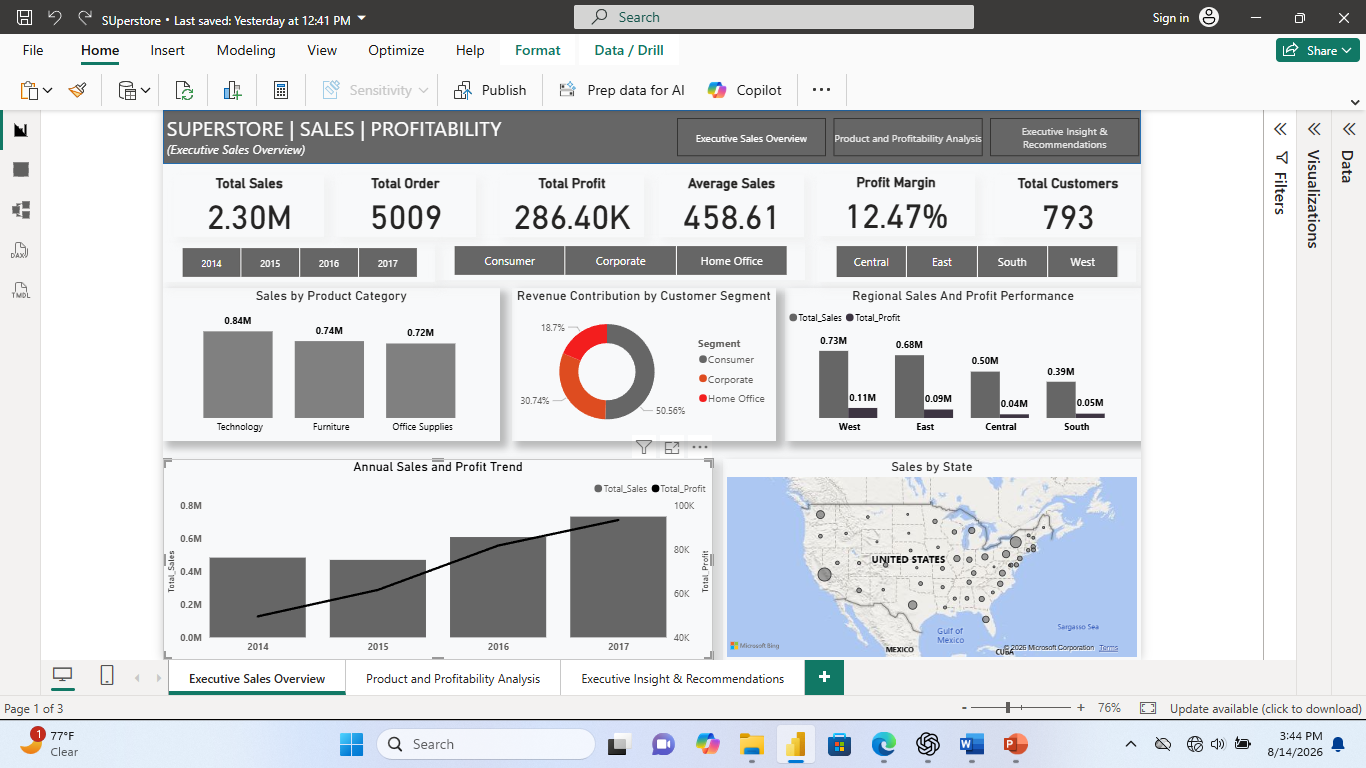

The page's visual inventory and layout, read from the dashboard file:
{"tool":"powerbi","page":{"name":"Executive Sales Overview","canvas":[1280,720],"ordinal":0},"visuals":[{"type":"card","title":"Total Sales","fields":{"Values":["Sample - Superstore.Total_Sales"]},"box":[14.4,85,197.3,80.6],"z":0},{"type":"card","title":"Total Order","fields":{"Values":["Sample - Superstore.Total_Order"]},"box":[224.6,85,184.3,80.6],"z":1000},{"type":"card","title":"Total Profit","fields":{"Values":["Sample - Superstore.Total_Profit"]},"box":[440.6,85,188.6,80.6],"z":2000},{"type":"card","title":"Profit Margin","fields":{"Values":["Sample - Superstore.Profit_Marginn"]},"box":[855.7,84.3,207.1,81.4],"z":3000},{"type":"card","title":"Average Sales","fields":{"Values":["Sample - Superstore.Average_sales"]},"box":[649.4,85,190.1,80.6],"z":4000},{"type":"card","title":"Total Customers","fields":{"Values":["Count(Sample - Superstore.Customer ID)"]},"box":[1088.6,85,191.5,80.6],"z":5000},{"type":"slicer","fields":{"Values":["Calendar.Year"]},"box":[0,174.3,355.7,51.4],"z":6000},{"type":"slicer","fields":{"Values":["Sample - Superstore.Region"]},"box":[855.7,171.4,417.1,54.3],"z":7000},{"type":"slicer","fields":{"Values":["Sample - Superstore.Segment"]},"box":[355.7,171.4,484.3,51.4],"z":8000},{"type":"lineClusteredColumnComboChart","title":"Annual Sales and Profit Trend","fields":{"Category":["Calendar.Date.Variation.Date Hierarchy.Year"],"Y":["Sample - Superstore.Total_Sales"],"Y2":["Sample - Superstore.Total_Profit"]},"box":[0,456.5,720,263.5],"z":9000},{"type":"clusteredColumnChart","title":"Sales by Product Category","fields":{"Category":["Sample - Superstore.Category"],"Y":["Sample - Superstore.Total_Sales"]},"box":[0,233.3,440.6,200.2],"z":10000},{"type":"donutChart","title":"Revenue Contribution by Customer Segment","fields":{"Category":["Sample - Superstore.Segment"],"Y":["Sample - Superstore.Total_Sales"]},"box":[456.5,233.3,345.6,200.2],"z":11000},{"type":"clusteredColumnChart","title":"Regional Sales And Profit Performance ","fields":{"Category":["Sample - Superstore.Region"],"Y":["Sample - Superstore.Total_Sales","Sample - Superstore.Total_Profit"]},"box":[813.6,233.3,466.6,200.2],"z":12000},{"type":"shape","box":[-0.2,-0.2,1280,70.6],"z":13000},{"type":"textbox","box":[0,0,597.3,70.2],"z":14000},{"type":"pageNavigator","box":[672.9,10,607.1,50],"z":15000},{"type":"map","title":"Sales by State","fields":{"Size":["Sample - Superstore.Total_Sales"],"Category":["usa_states_dataset.State"]},"box":[744.6,455.6,535.4,264.3],"z":16000}]}

Visuals, with their boxes on the page's 1280x720 design canvas (x1, y1, x2, y2). These are canvas units, not pixel positions in the 1366x768 screenshot, which may show the page scaled, cropped or inside an application window:
"Total Sales" card: [x1=14, y1=85, x2=212, y2=166]
"Total Order" card: [x1=225, y1=85, x2=409, y2=166]
"Total Profit" card: [x1=441, y1=85, x2=629, y2=166]
"Profit Margin" card: [x1=856, y1=84, x2=1063, y2=166]
"Average Sales" card: [x1=649, y1=85, x2=840, y2=166]
"Total Customers" card: [x1=1089, y1=85, x2=1280, y2=166]
slicer - Calendar.Year: [x1=0, y1=174, x2=356, y2=226]
slicer - Sample - Superstore.Region: [x1=856, y1=171, x2=1273, y2=226]
slicer - Sample - Superstore.Segment: [x1=356, y1=171, x2=840, y2=223]
"Annual Sales and Profit Trend" lineClusteredColumnComboChart: [x1=0, y1=456, x2=720, y2=720]
"Sales by Product Category" clusteredColumnChart: [x1=0, y1=233, x2=441, y2=434]
"Revenue Contribution by Customer Segment" donutChart: [x1=456, y1=233, x2=802, y2=434]
"Regional Sales And Profit Performance " clusteredColumnChart: [x1=814, y1=233, x2=1280, y2=434]
shape: [x1=0, y1=0, x2=1280, y2=70]
textbox: [x1=0, y1=0, x2=597, y2=70]
pageNavigator: [x1=673, y1=10, x2=1280, y2=60]
"Sales by State" map: [x1=745, y1=456, x2=1280, y2=720]
